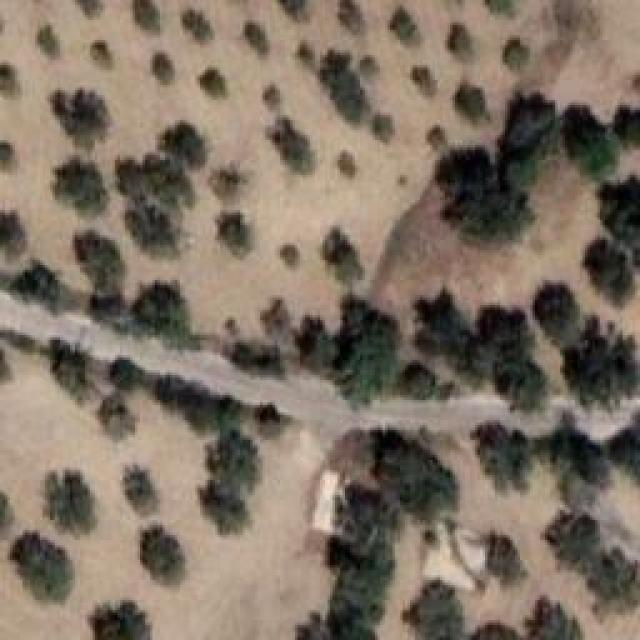Tree: (295, 295, 399, 407), (438, 147, 532, 242), (370, 425, 464, 514), (118, 153, 193, 256), (315, 548, 389, 640), (200, 430, 260, 535), (498, 93, 562, 190), (543, 400, 611, 491), (325, 488, 397, 556), (565, 338, 633, 406), (10, 533, 74, 601), (407, 565, 464, 640), (473, 420, 530, 494), (135, 283, 199, 347), (412, 290, 474, 356), (563, 105, 619, 177), (545, 502, 602, 567), (320, 50, 369, 125), (55, 90, 111, 151), (533, 283, 587, 345), (75, 230, 125, 295), (590, 178, 640, 242), (53, 158, 108, 216), (583, 550, 635, 611), (585, 235, 633, 301), (47, 474, 95, 534), (533, 590, 588, 640), (140, 525, 185, 585), (268, 118, 314, 175), (483, 300, 528, 358), (13, 265, 76, 305), (323, 228, 364, 285), (90, 602, 150, 640), (605, 413, 640, 478), (500, 358, 549, 404), (160, 123, 208, 168), (225, 340, 284, 376), (607, 92, 640, 149), (490, 533, 524, 586), (398, 360, 442, 400), (125, 468, 158, 516), (218, 213, 252, 259), (95, 392, 131, 435), (455, 83, 491, 125), (0, 203, 28, 255), (415, 115, 450, 152), (390, 7, 421, 47), (320, 50, 351, 88), (498, 30, 526, 72), (358, 110, 398, 139), (105, 360, 135, 395), (448, 23, 473, 61), (0, 63, 22, 102), (3, 137, 26, 174), (183, 13, 209, 45), (333, 148, 365, 174), (413, 68, 438, 99), (474, 620, 512, 640), (245, 23, 268, 56), (135, 0, 158, 32), (200, 70, 224, 98), (38, 25, 59, 56), (153, 53, 173, 85), (340, 0, 360, 32), (93, 43, 113, 70), (280, 245, 300, 270), (280, 0, 307, 18), (263, 85, 282, 110), (77, 0, 101, 17)
